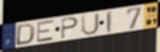7: (126, 6, 143, 30)
D: (14, 23, 37, 47)
E: (36, 19, 55, 43)
I: (106, 10, 112, 34)
P: (60, 17, 80, 40)
U: (81, 12, 100, 37)
